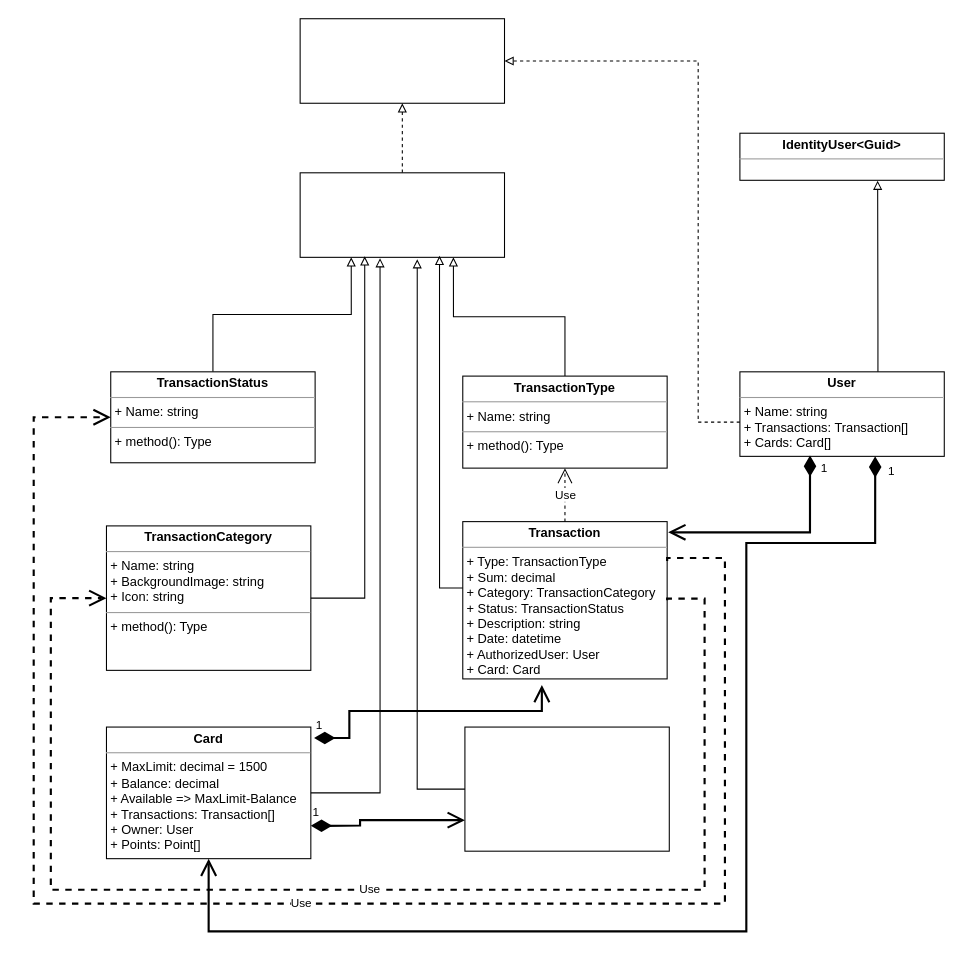
The diagram is 963 pixels wide and 969 high, and some of its shapes have lost their labels. Here are the shapes that lost their labels. From the top down, the box of each, then its label:
(299, 18, 505, 103): <<interface>> IEntity + Id: guid + CreatedOn: datetime + ModifiedOn: datetime
(299, 172, 505, 257): <<abstract>> BaseEntity + Id: guid + CreatedOn: datetime + ModifiedOn: datetime
(464, 726, 669, 851): Point + Amount: decimal + Date: datetime + method(): Type
